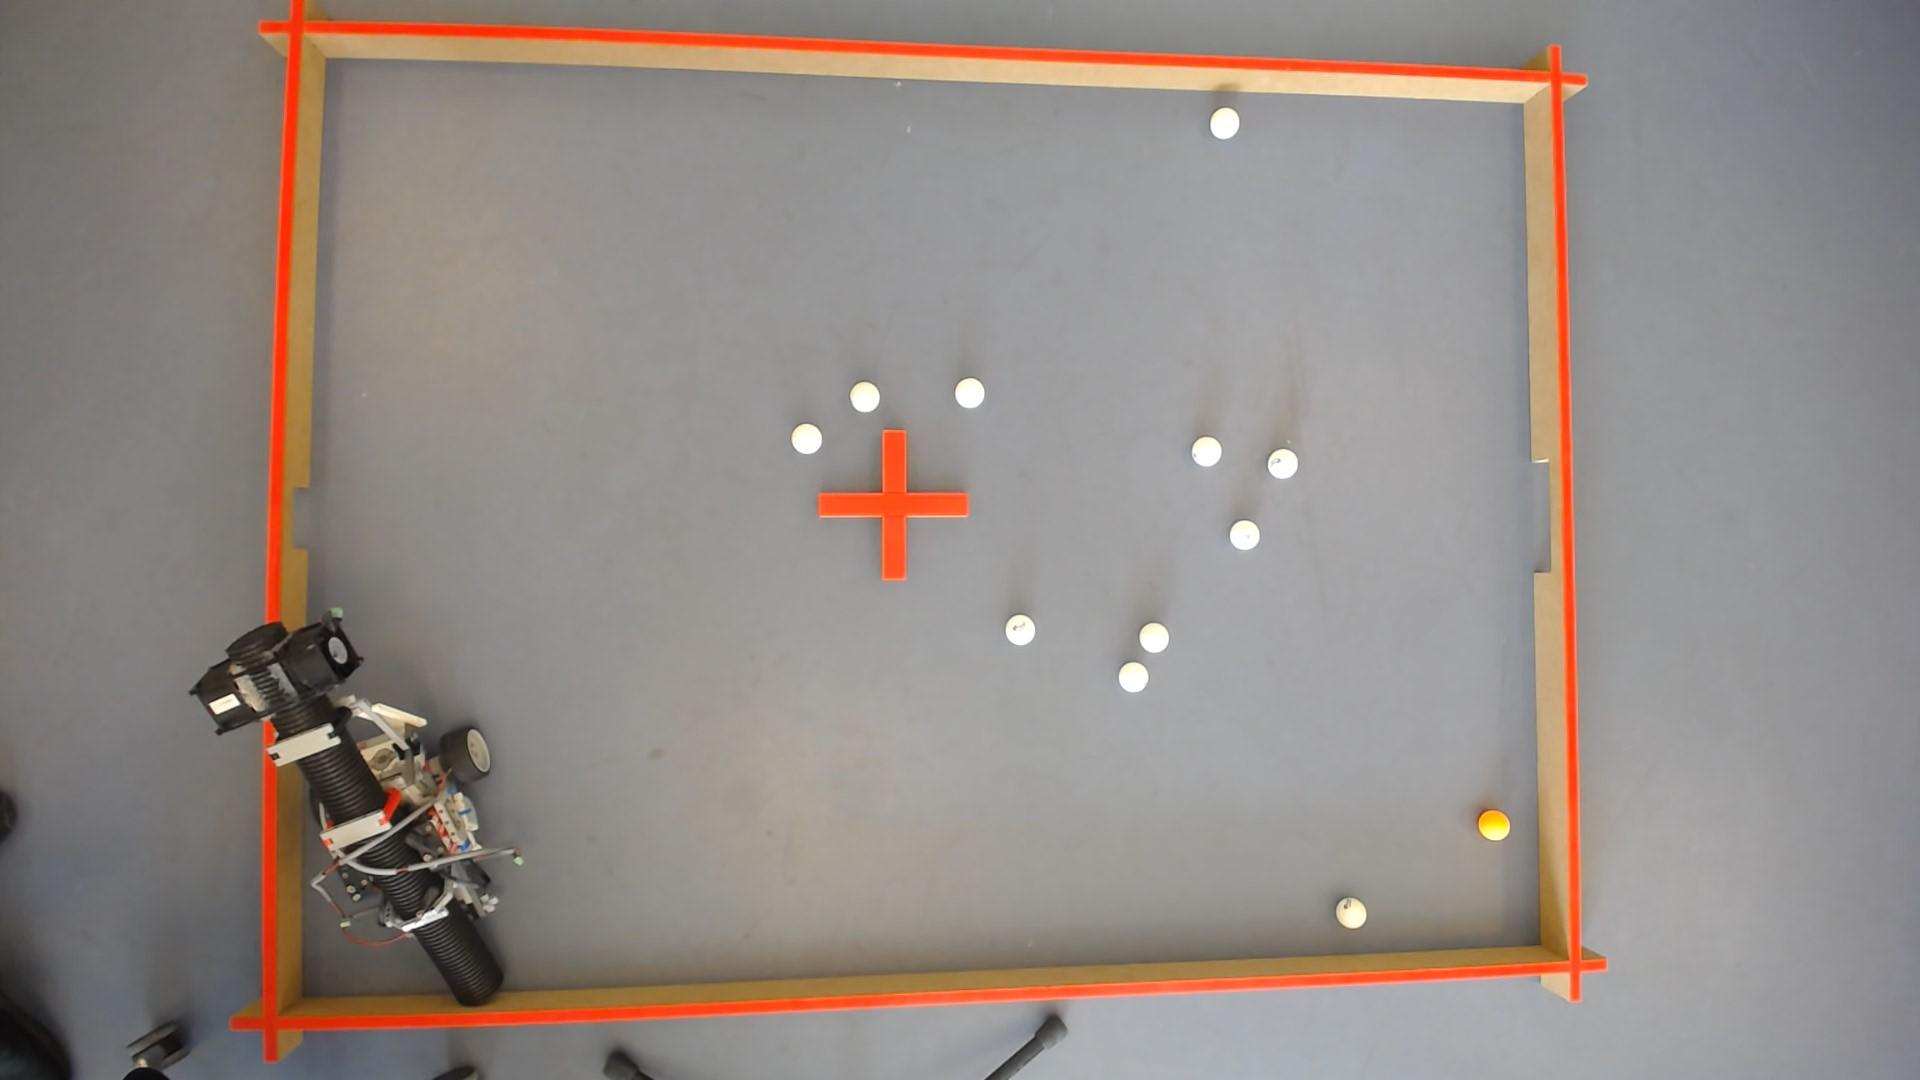orange: (1480, 810, 1513, 841)
robot: (193, 609, 514, 1007)
white: (791, 422, 823, 454), (955, 376, 986, 407), (1139, 621, 1171, 653), (1211, 104, 1241, 137), (1338, 898, 1369, 930), (1006, 615, 1036, 645), (851, 380, 880, 410), (1270, 447, 1300, 476), (1120, 662, 1149, 692), (1193, 435, 1222, 464), (1232, 520, 1261, 549)
